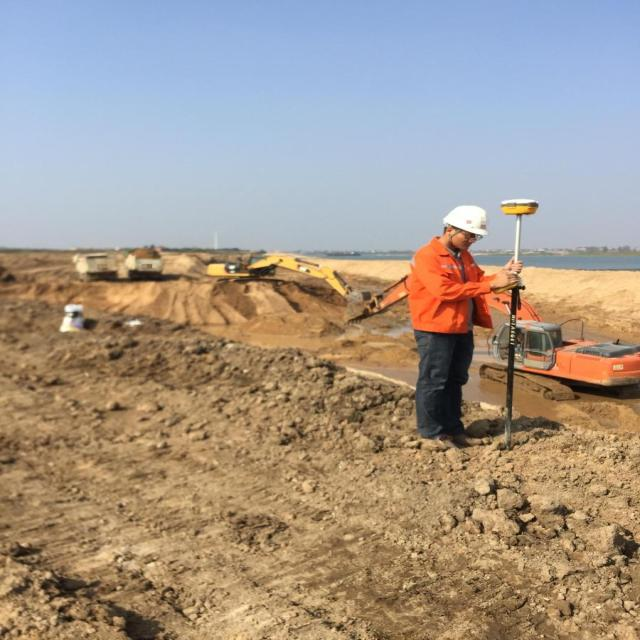excavator: (350, 243, 640, 411), (192, 238, 376, 329)
